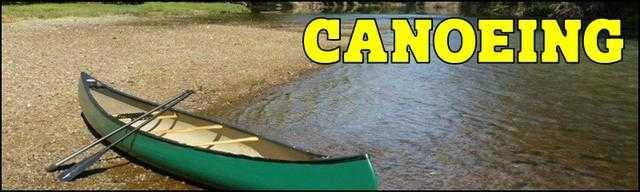kayak: (71, 71, 380, 191)
